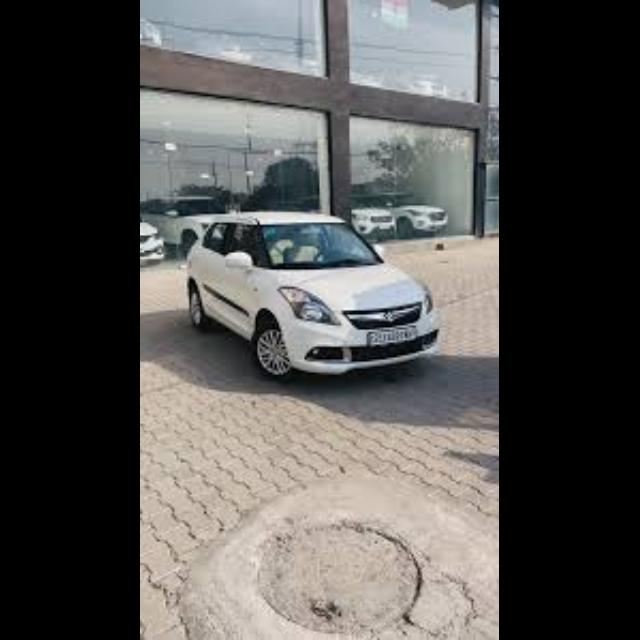number-plate: (370, 324, 421, 345)
vehicles: (184, 208, 445, 379), (350, 193, 451, 240), (143, 197, 224, 251)
